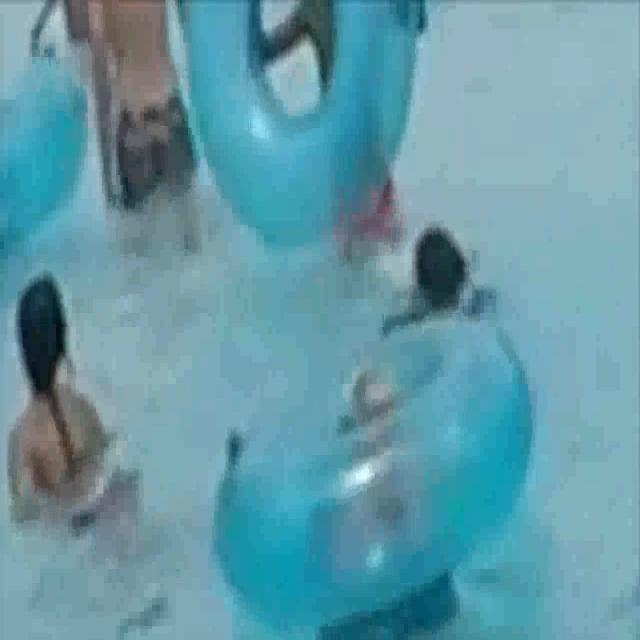drowning: (365, 183, 533, 357)
